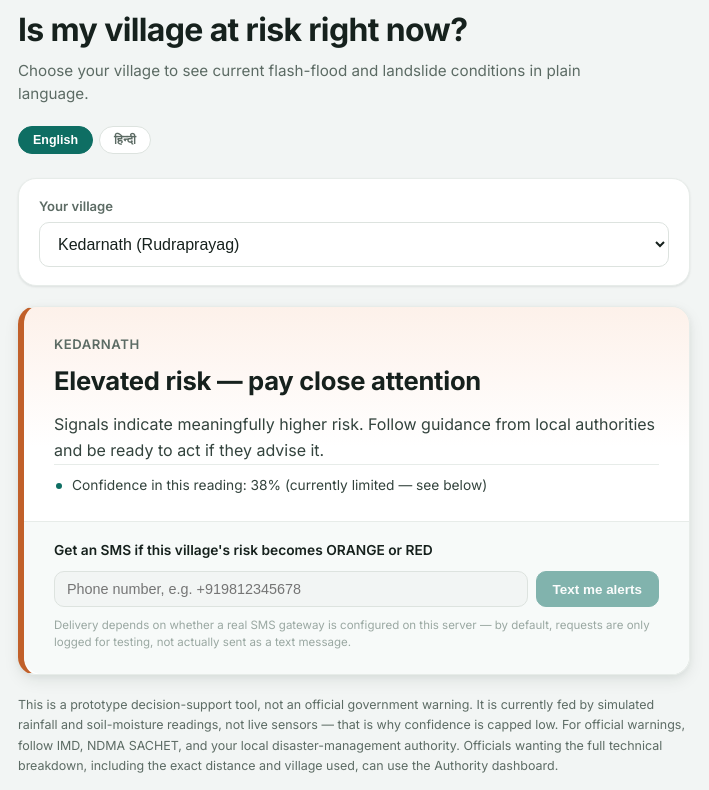
Scenario: CitizenView › re-fetches risk when a different village is picked
The image size is (709, 790).
expect the text "Kedarnath" is shown: met, box 54,336 -> 140,352
Select "Rudraprayag (Rudraprayag)" in the dropdown labelled "Your village" at (354, 245), box 39,222 -> 669,267
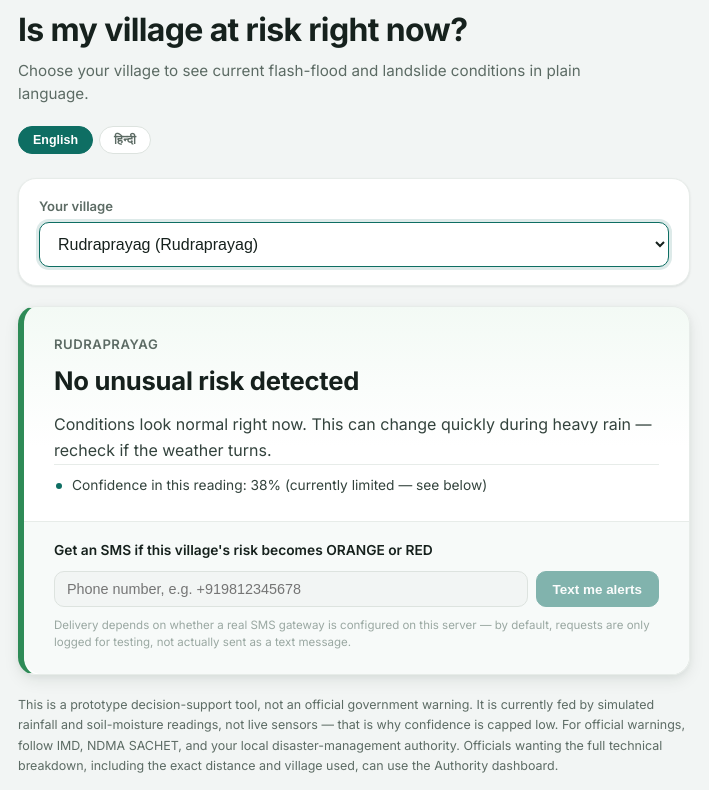
expect the text "Rudraprayag" is shown: met, box 54,336 -> 158,352
expect the text "No unusual risk detected" is shown: met, box 54,365 -> 359,396
